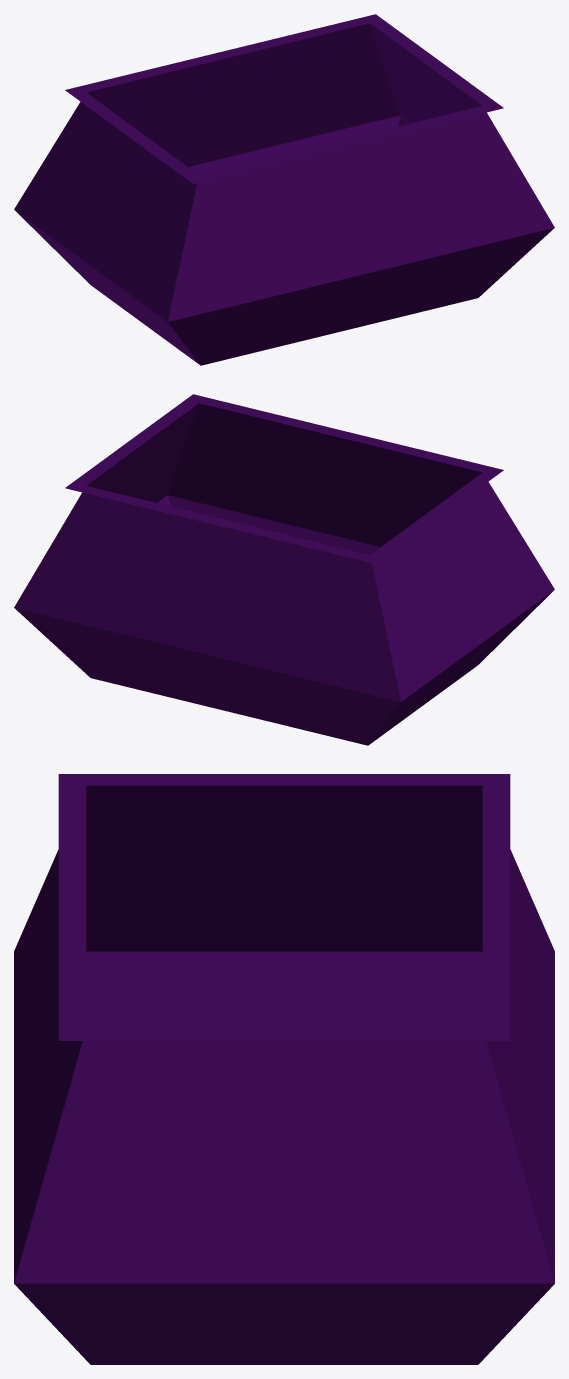
Rendered from Level2.fbx.
3 views of the same model, one above another, from view 1: azimuth 30°, elevation 25°; view 2: azimuth 150°, elevation 25°; view 3: azimuth 270°, elevation 25° (orthographic). The views are drawn at different scales.
Visible parts, largest first — view 1: Estadio1; view 2: Estadio1; view 3: Estadio1.
Boxes of the visible parts, x1,y1,x2,y2 form: Estadio1: (14, 14, 554, 365); Estadio1: (14, 394, 554, 745); Estadio1: (14, 774, 554, 1364).
Bounding box in the file's own units: 61.73 × 29.68 × 42.49.
Materials: 1 (1 with a texture image).
